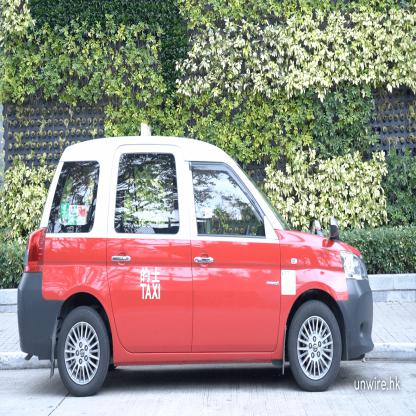taxi: (18, 91, 378, 415)
